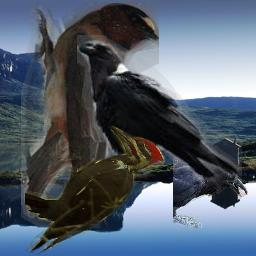Crow: (77, 35, 242, 185), (173, 154, 248, 228)
Swallow: (21, 2, 159, 228)
Woodpecker: (25, 126, 165, 255)
